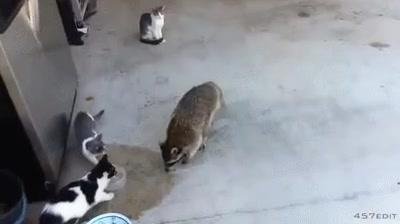raccoon: (158, 82, 226, 174)
